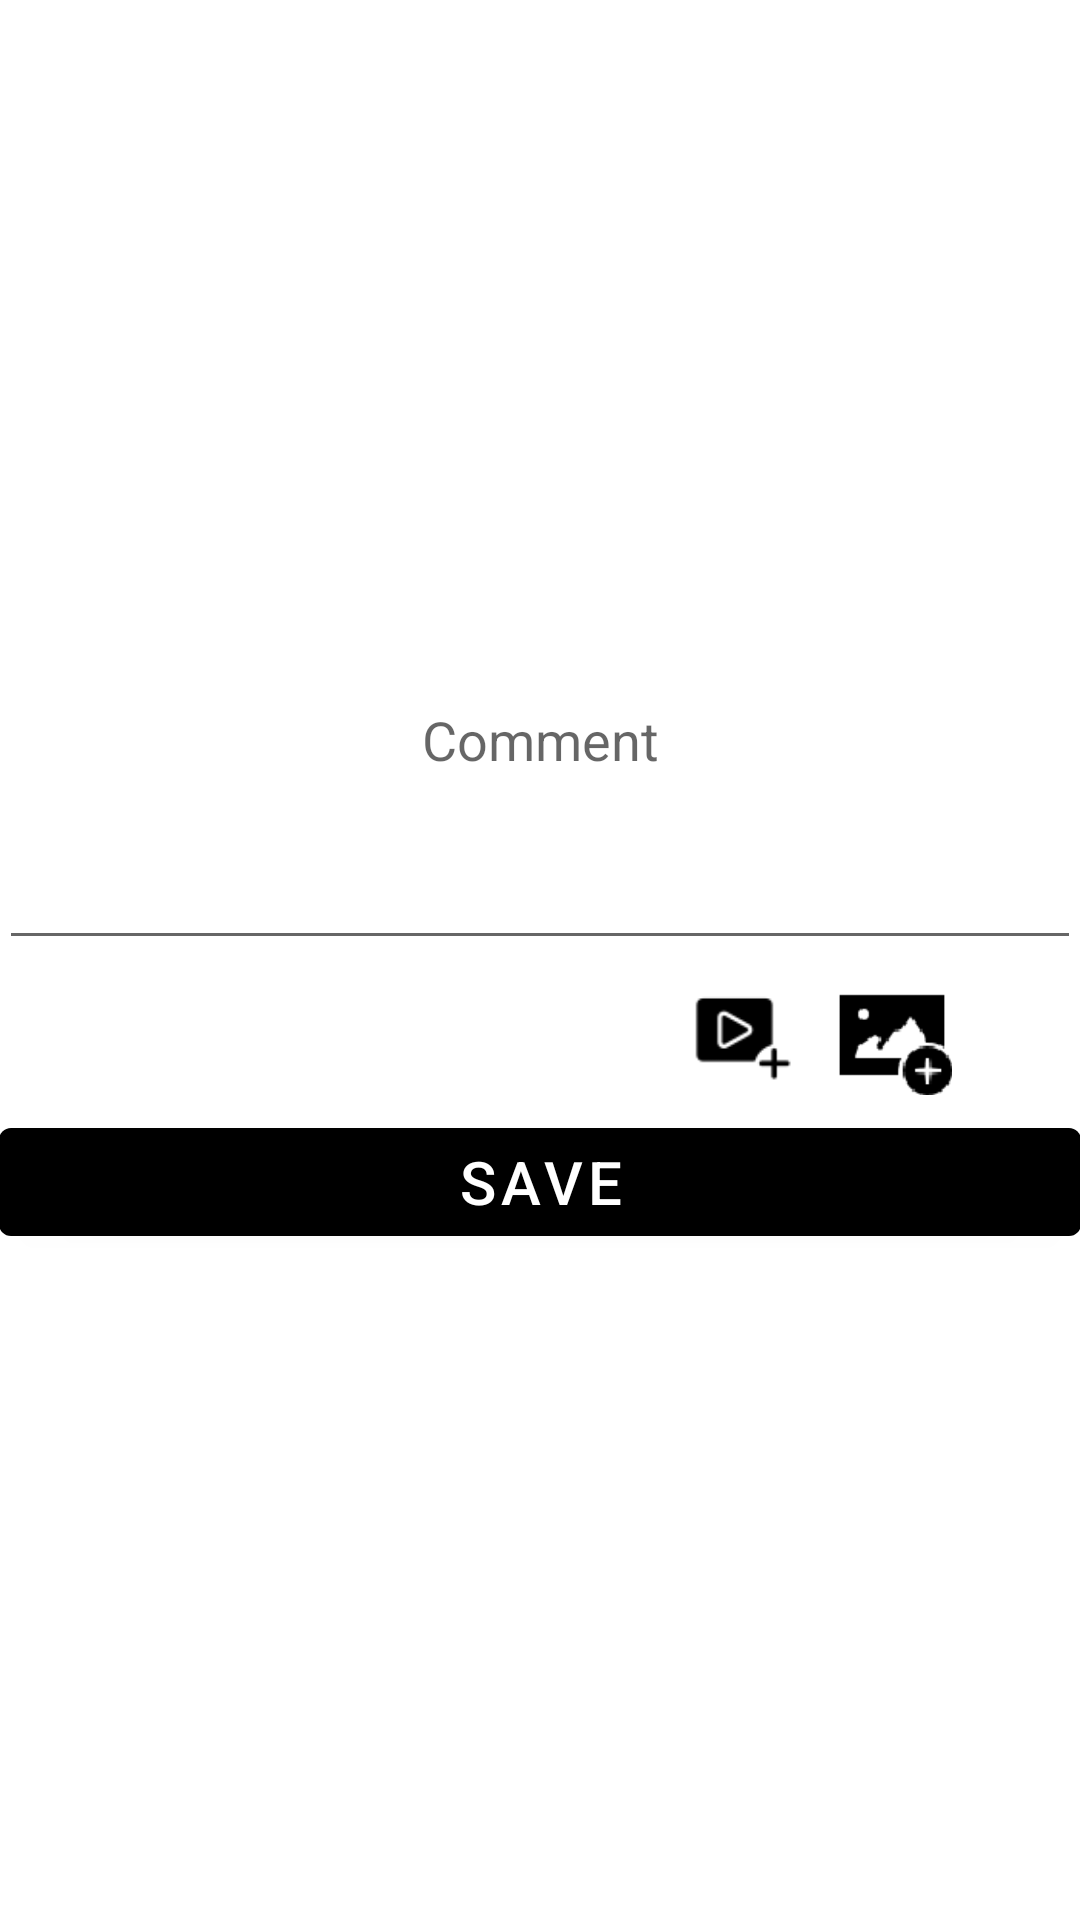

Where to tap for icons on this 1080 x 1920 app screen, as point (x, y):
attachimage: point (895, 1044)
attachvideo: point (743, 1039)
